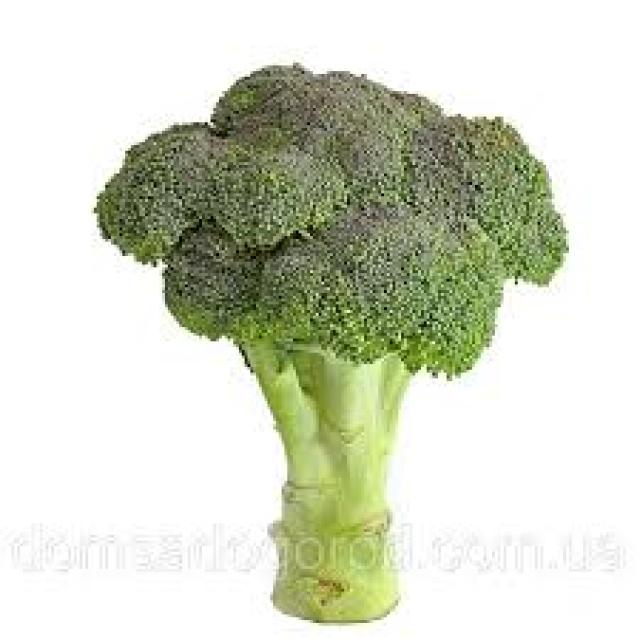broccoli: (88, 62, 574, 633)
